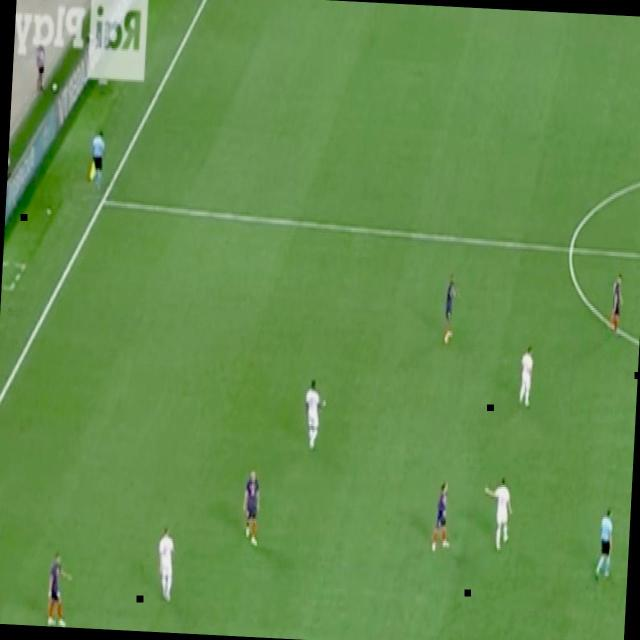ball: (50, 80, 60, 92)
player-white: (480, 474, 516, 554), (45, 548, 75, 628), (301, 376, 329, 452), (239, 465, 263, 549), (429, 478, 454, 556), (154, 525, 178, 605), (592, 507, 616, 583), (442, 272, 461, 346), (517, 343, 536, 409), (608, 272, 626, 341), (90, 128, 108, 196)
